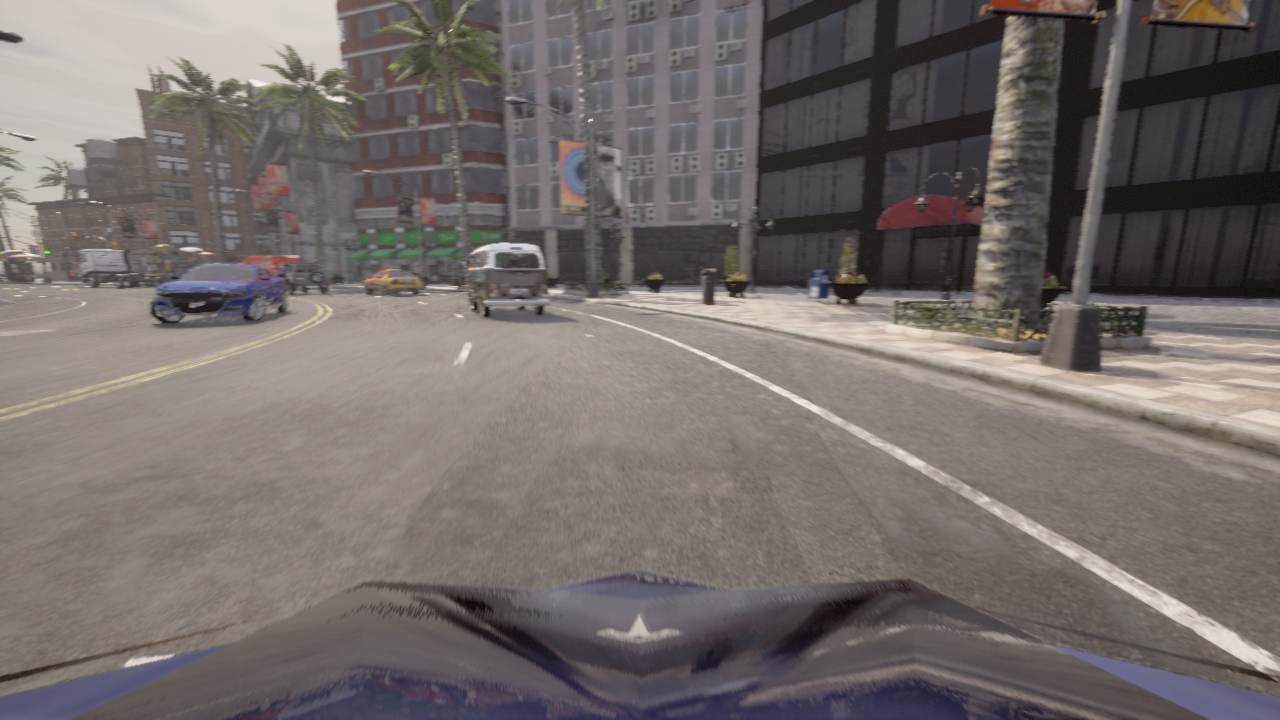cyclist: (0, 569, 1279, 719), (150, 263, 286, 323), (462, 243, 549, 317), (75, 249, 170, 287), (274, 262, 329, 295), (363, 267, 423, 295), (240, 256, 301, 273)
